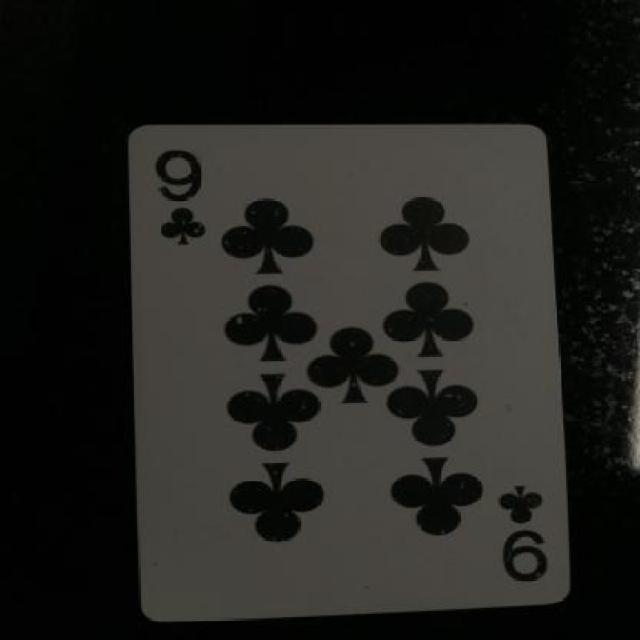9C: (148, 147, 234, 271), (469, 489, 565, 593)
